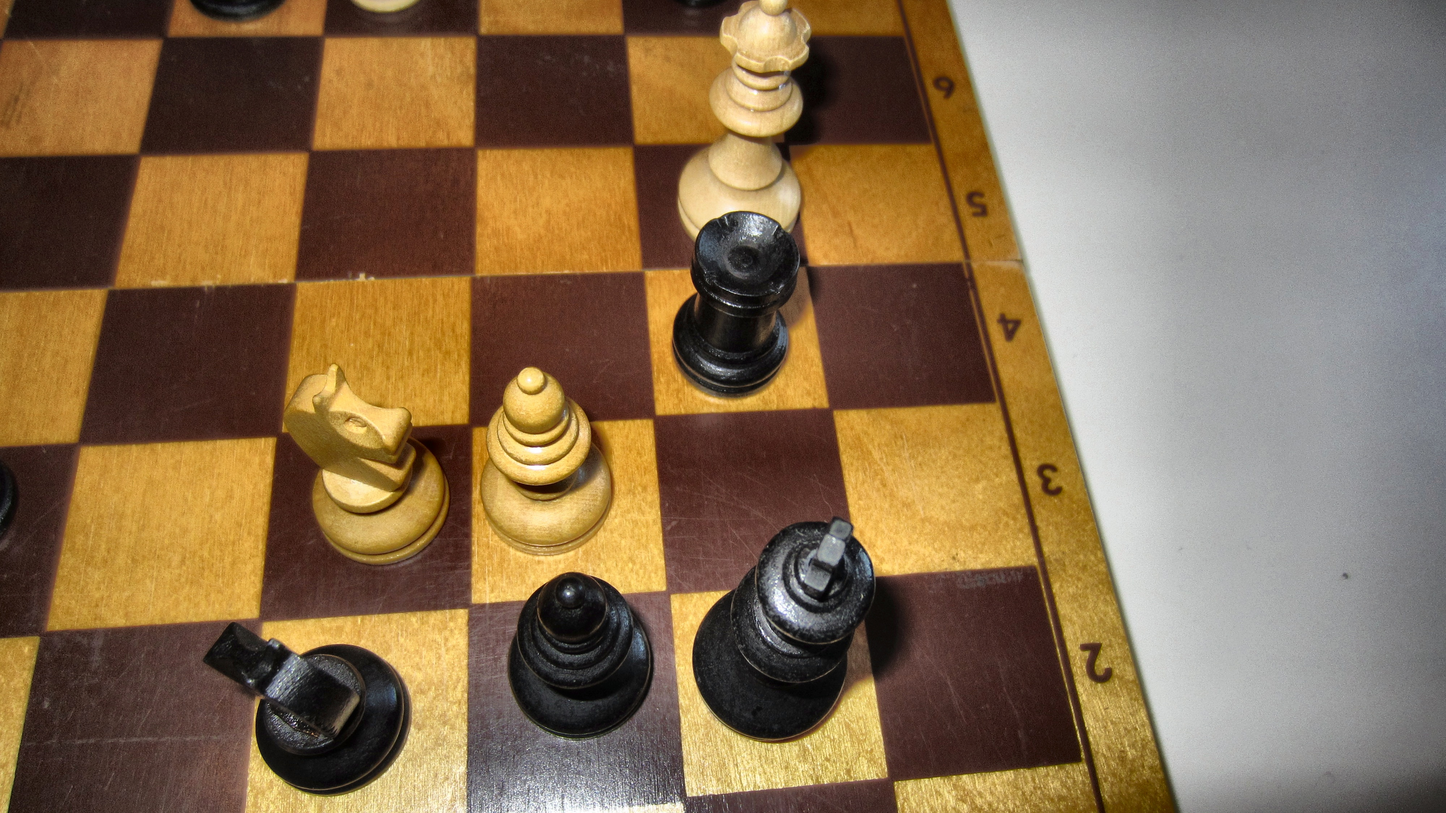black-bishop: (505, 570, 653, 740)
black-king: (689, 515, 878, 744)
black-knight: (201, 621, 414, 797)
black-rook: (670, 209, 802, 399)
white-bishop: (479, 363, 613, 557)
white-knight: (281, 363, 450, 566)
white-queen: (675, 0, 814, 246)
